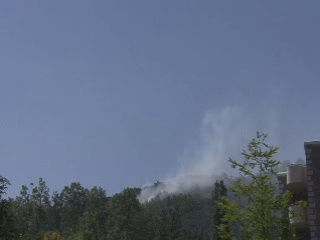smoke: (185, 106, 236, 181), (136, 164, 209, 200)
